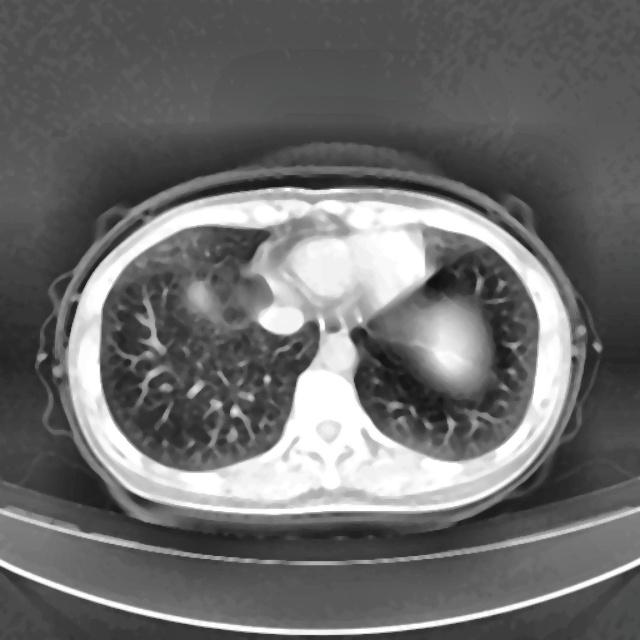covid: (37, 159, 602, 537)
